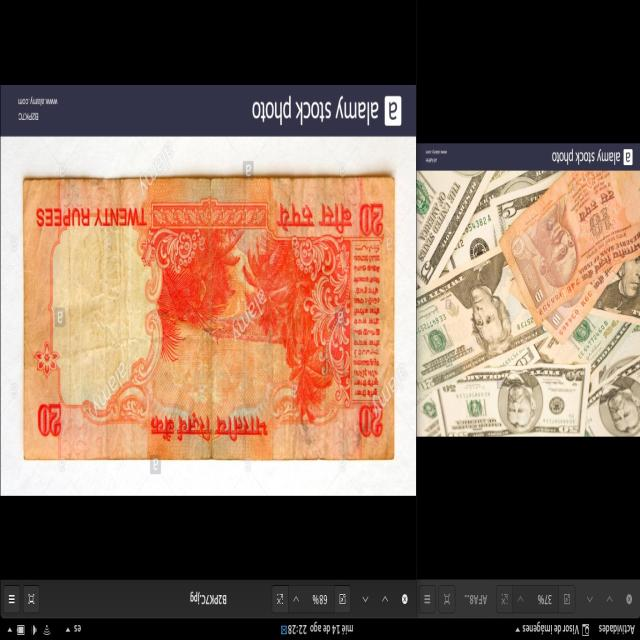20IndianRupees: (22, 182, 395, 463)
